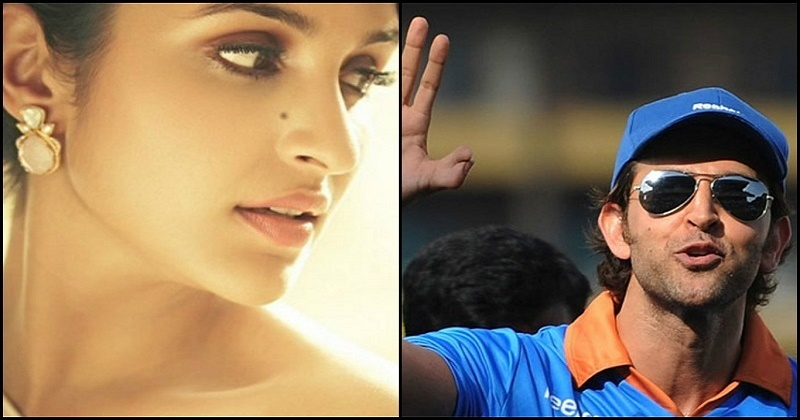mole: (276, 107, 298, 125)
